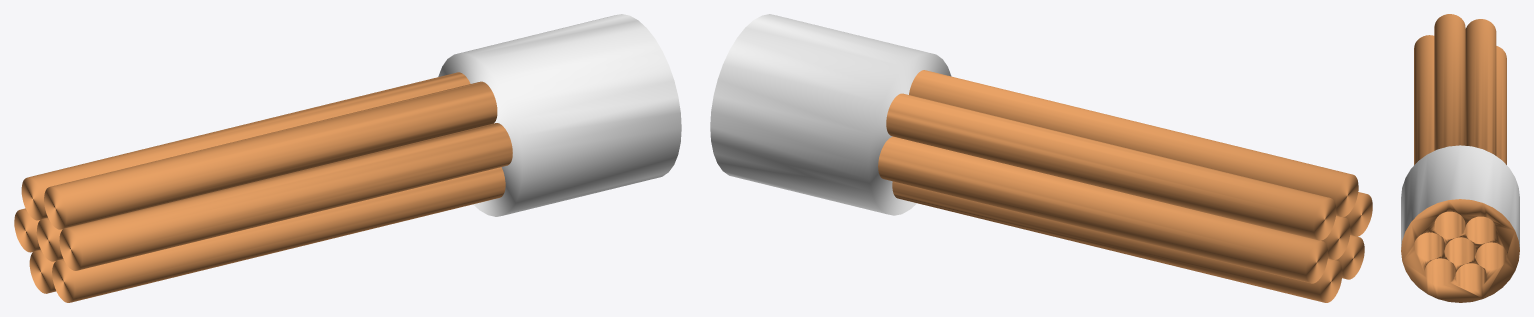
Rendered from Weißer_Kabel_Anfang.glb.
3 views of the same model, side by side, from view 1: azimuth 30°, elevation 25°; view 2: azimuth 150°, elevation 25°; view 3: azimuth 270°, elevation 25° (orthographic). The views are drawn at different scales.
Visible parts, largest first — view 1: Kabel_Anfang; view 2: Kabel_Anfang; view 3: Kabel_Anfang.
Boxes of the visible parts, left/top/right/bottom form: Kabel_Anfang: left=14, top=14, right=681, bottom=302; Kabel_Anfang: left=710, top=14, right=1372, bottom=302; Kabel_Anfang: left=1401, top=14, right=1519, bottom=302.
Size of the model in its own units: 0.00388 by 0.000953 by 0.000988.
